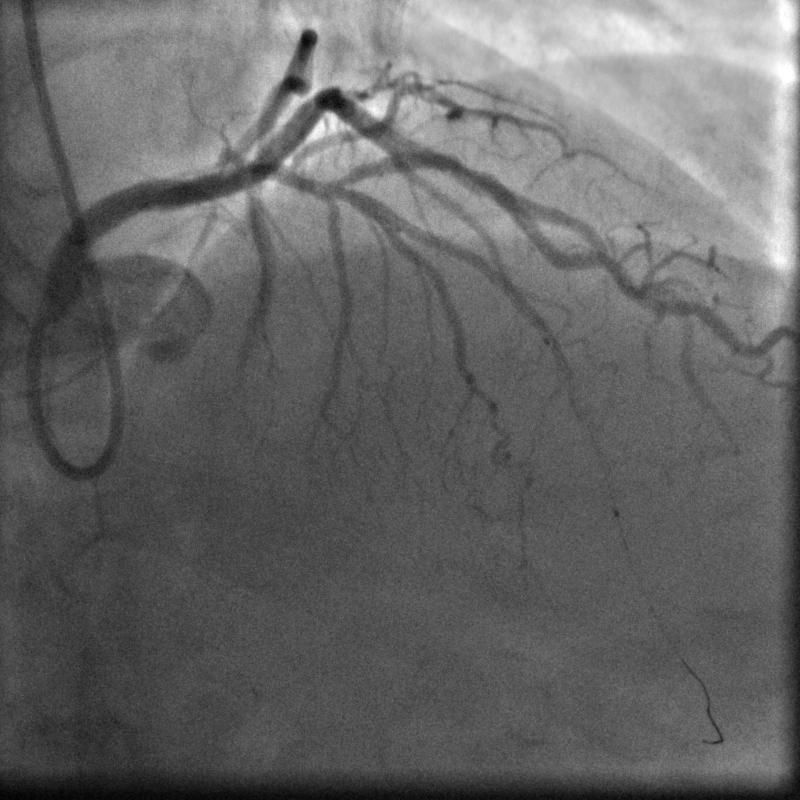Stenosis: (449, 149, 493, 193)
